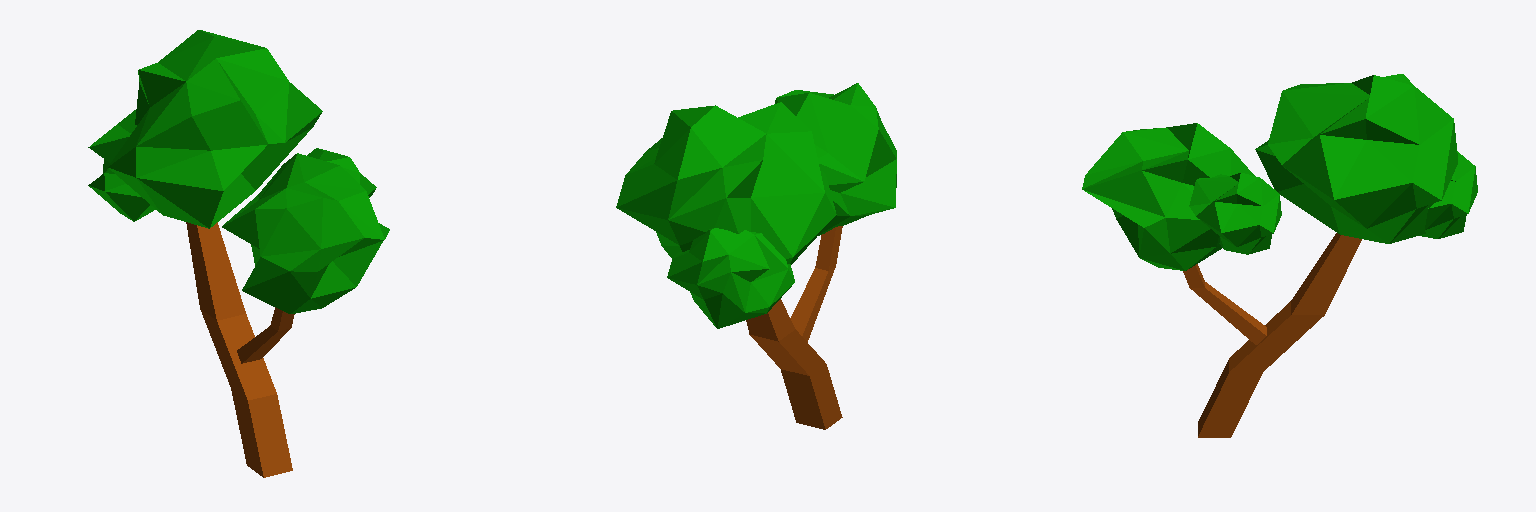
The model's file is trees3.obj.
The picture shows the model from 3 angles: view 1: azimuth 30°, elevation 25°; view 2: azimuth 150°, elevation 25°; view 3: azimuth 270°, elevation 25°; orthographic projection.
Parts seen in each view (by area): view 1: Icosphere.010_Icosphere.009, Icosphere.009_Icosphere.008, Cube.008_Cube.012; view 2: Icosphere.010_Icosphere.009, Icosphere.009_Icosphere.008, Cube.008_Cube.012; view 3: Icosphere.010_Icosphere.009, Icosphere.009_Icosphere.008, Cube.008_Cube.012.
Part boxes in pixels (x1,y1,x2,y2): Icosphere.010_Icosphere.009: (88,30,322,228); Icosphere.009_Icosphere.008: (222,148,389,313); Cube.008_Cube.012: (186,222,294,477); Icosphere.010_Icosphere.009: (616,102,836,328); Icosphere.009_Icosphere.008: (775,83,896,235); Cube.008_Cube.012: (746,226,842,429); Icosphere.010_Icosphere.009: (1255,74,1477,243); Icosphere.009_Icosphere.008: (1082,123,1281,270); Cube.008_Cube.012: (1183,233,1361,437).
Size of the model in its own units: 1.55 by 2.88 by 2.82.